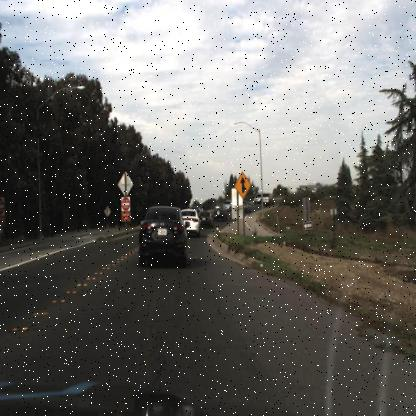car: (137, 204, 189, 274), (180, 204, 202, 240), (182, 207, 202, 235), (198, 206, 214, 232), (212, 200, 228, 224), (261, 189, 276, 209), (242, 196, 253, 217)
